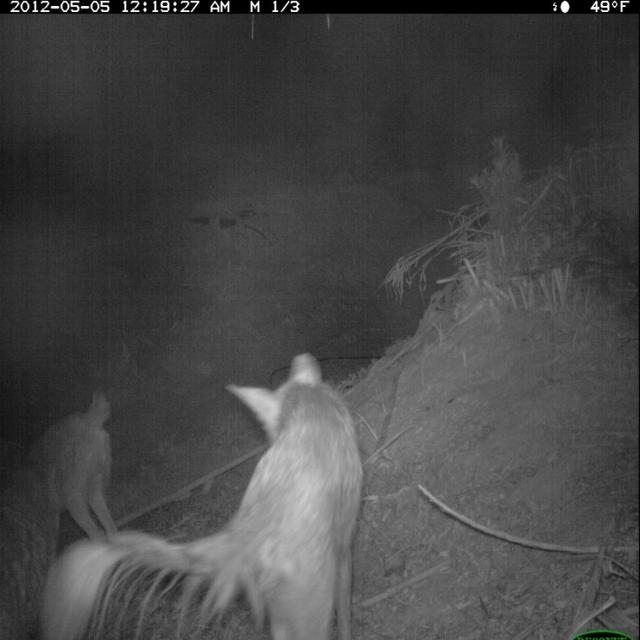coyote: (35, 346, 370, 640), (3, 380, 127, 569)
